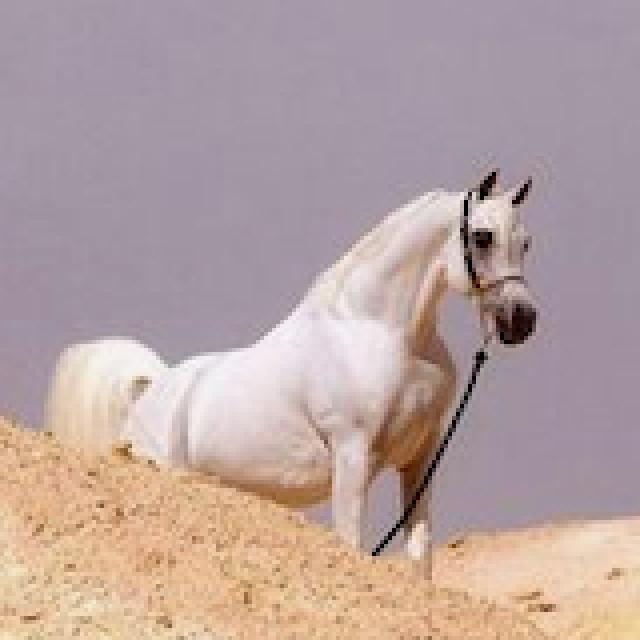Horse: (36, 160, 548, 576)
